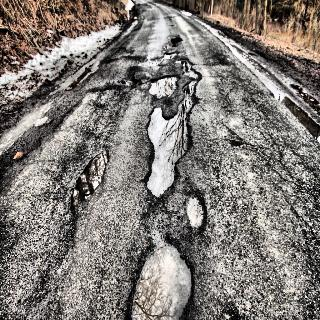pothole: (143, 32, 202, 200), (125, 233, 192, 320), (70, 141, 111, 211), (184, 190, 209, 232)
